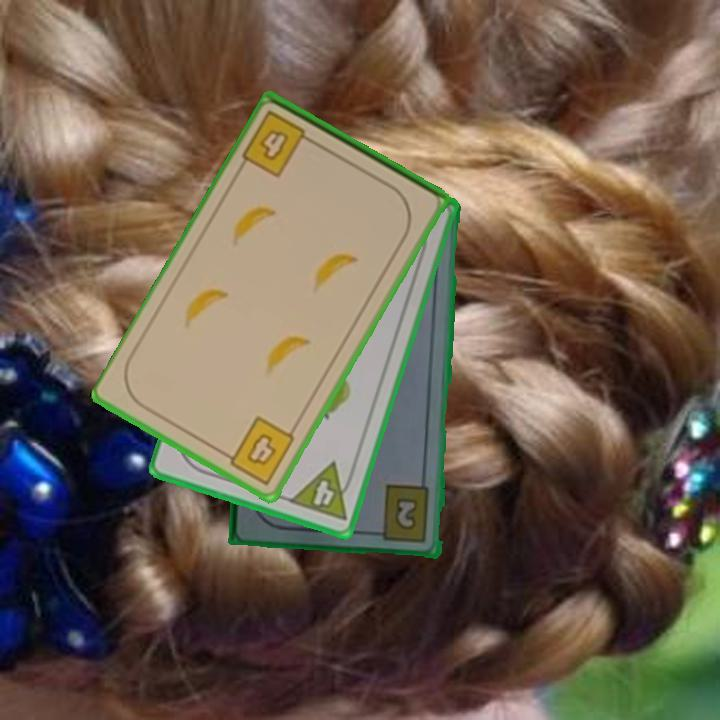2b: (370, 482, 432, 546)
4b: (218, 412, 298, 488), (239, 107, 320, 181)
4p: (286, 458, 359, 525)
